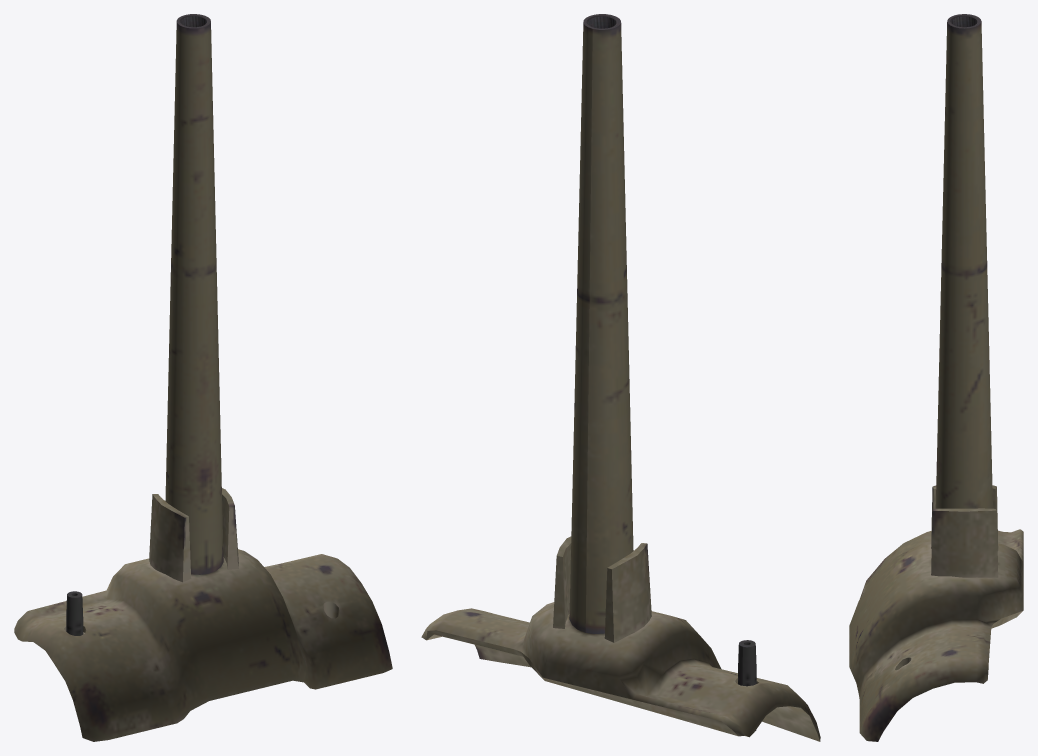
The model's file is Gun_01.glb.
The picture shows the model from 3 angles, left to right: view 1: azimuth 30°, elevation 25°; view 2: azimuth 150°, elevation 25°; view 3: azimuth 270°, elevation 25°; orthographic projection. The views are drawn at different scales.
Parts seen in each view (by area): view 1: set_0_group_0; view 2: set_0_group_0; view 3: set_0_group_0.
Boxes of the visible parts, box(x1,y1,x2,y2) form: set_0_group_0: box(14, 14, 392, 741); set_0_group_0: box(421, 14, 820, 741); set_0_group_0: box(849, 14, 1023, 741).
Size of the model in its own units: 1.02 by 2.05 by 0.5009.
1 material, 1 textured.
